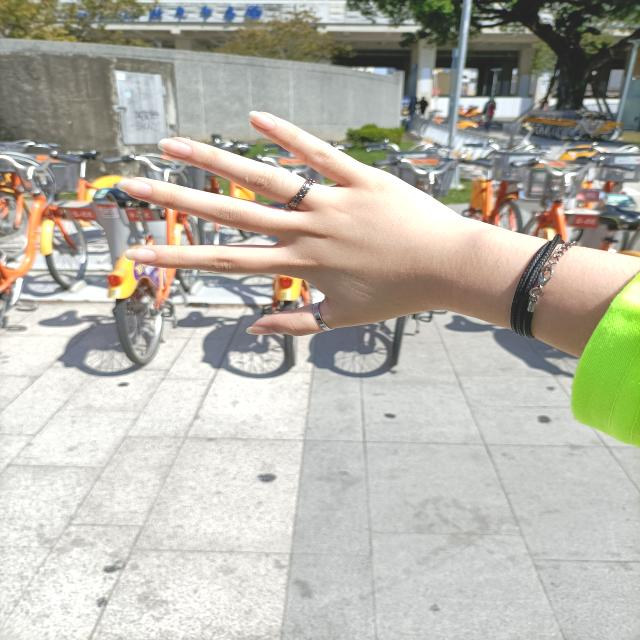no_glove: (82, 93, 477, 354)
